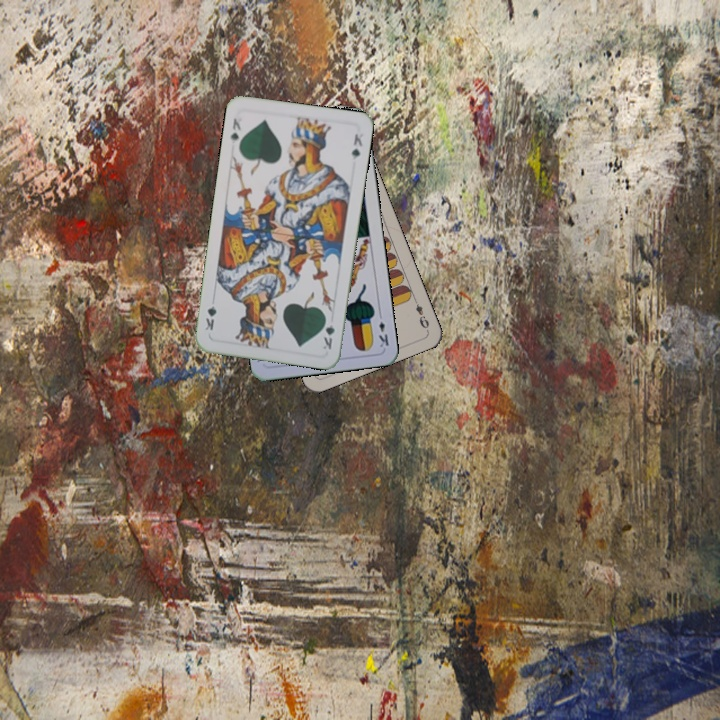E9: (410, 294, 432, 331)
EK: (375, 309, 391, 350)
GK: (318, 312, 337, 352), (226, 114, 244, 147)
